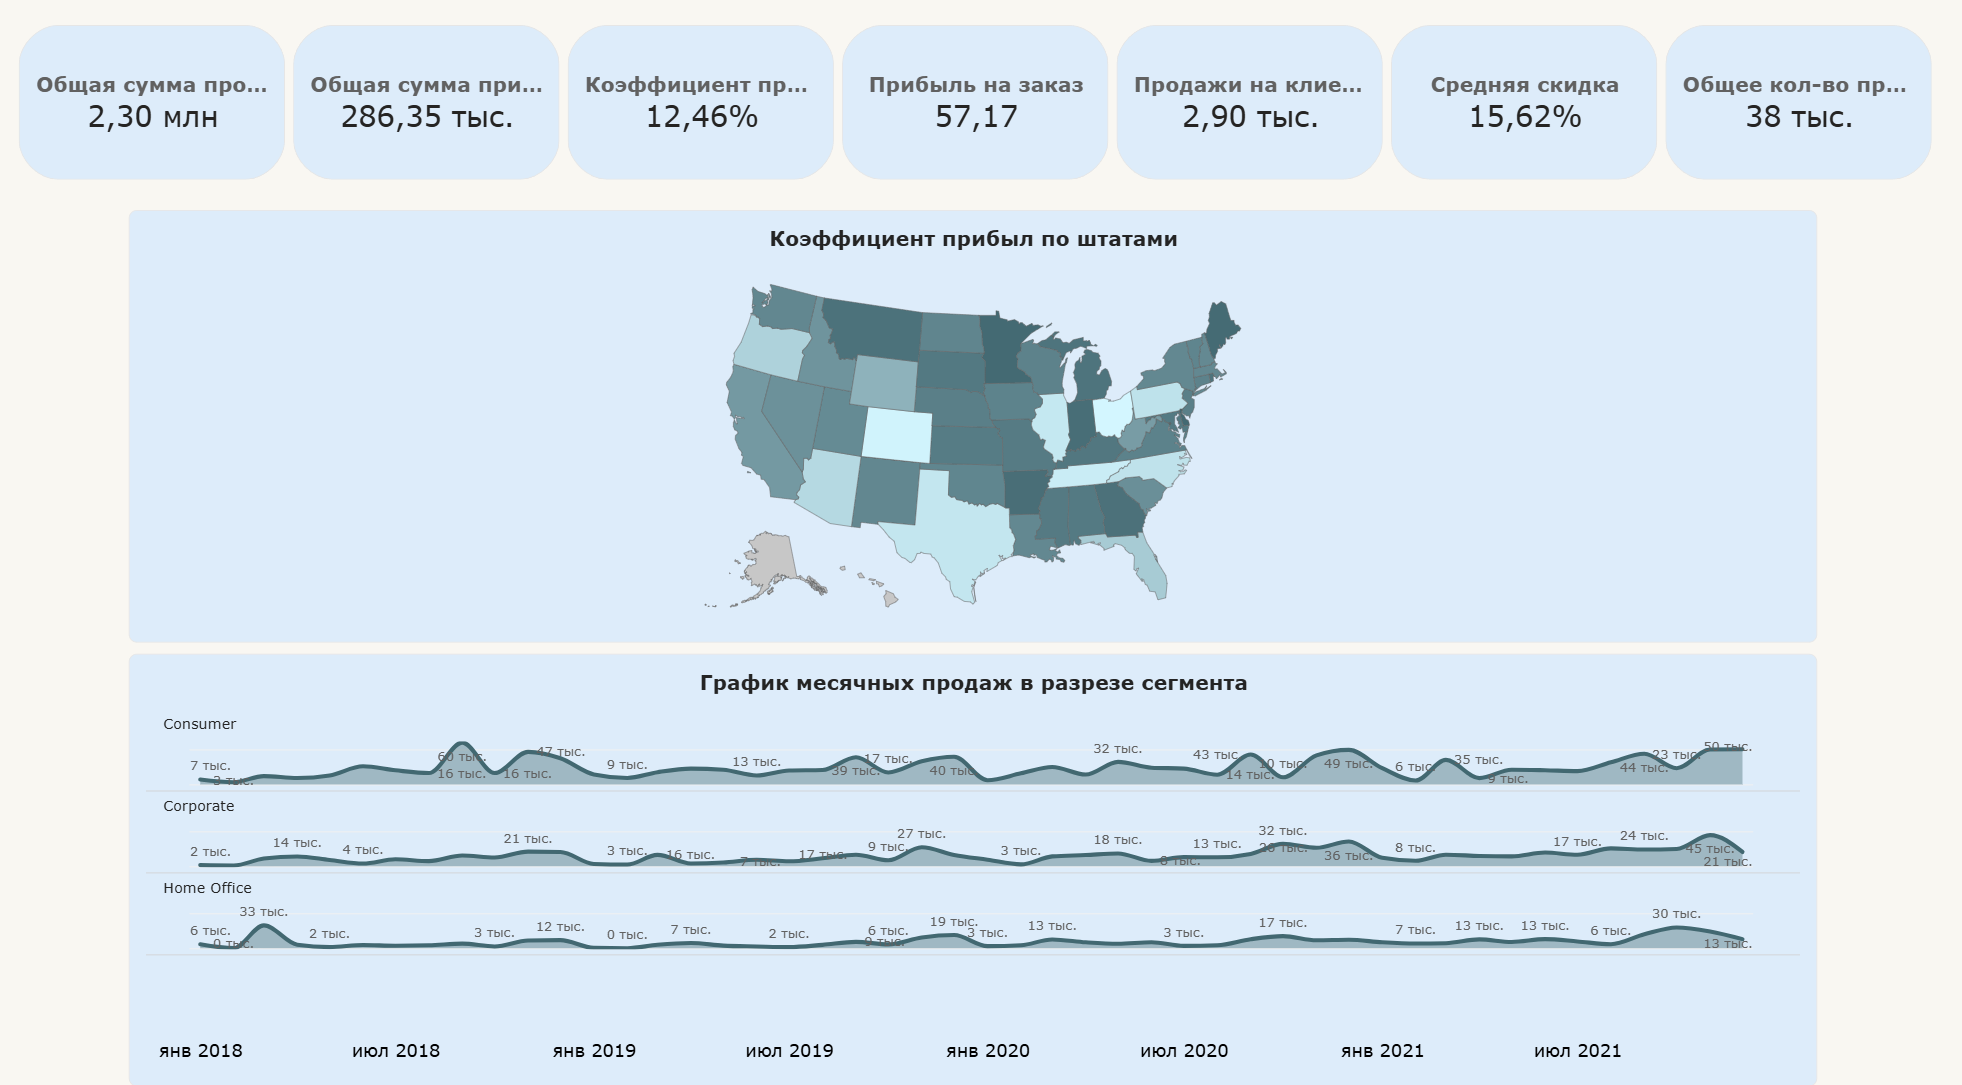

What the dashboard file says about the page in this screenshot:
{"tool":"powerbi","page":{"name":"Страница 1","canvas":[1920,1080],"ordinal":0},"visuals":[{"type":"cardVisual","fields":{"Data":["Sum(Sample - Superstore_Orders.Sales)","Sum(Sample - Superstore_Orders.Profit)","Меры.Profit ratio","Меры.Profit per Order","Меры.Sales per Customer","Меры.Average Discount","Меры.Total quantity"]},"box":[23.2,43.9,1871.2,151.4],"z":0},{"type":"shapeMap","title":"Коэффициент прибыл по штатами ","fields":{"Value":["Меры.Profit ratio"],"Category":["Sample - Superstore_Orders.State"]},"box":[130.7,224.7,1649,422.1],"z":1000},{"type":"areaChart","title":"График месячных продаж в разрезе сегмента","fields":{"Category":["Sample - Superstore_Orders.Order Date.Изменение.Иерархия дат.Год","Sample - Superstore_Orders.Order Date.Изменение.Иерархия дат.Месяц"],"Y":["Sum(Sample - Superstore_Orders.Sales)"],"Rows":["Sample - Superstore_Orders.Segment"]},"box":[130.7,657.7,1649,422.1],"z":2000}]}

Visuals, with their boxes in screenshot pixels (x1, y1, x2, y2), scaled from the page's 1920x1080 canvas onto the 1962x1085 screenshot:
cardVisual - Sum(Sample - Superstore_Orders.Sales) x Sum(Sample - Superstore_Orders.Profit): rect(24, 44, 1936, 196)
"Коэффициент прибыл по штатами " shapeMap: rect(134, 226, 1819, 650)
"График месячных продаж в разрезе сегмента" areaChart: rect(134, 661, 1819, 1084)
